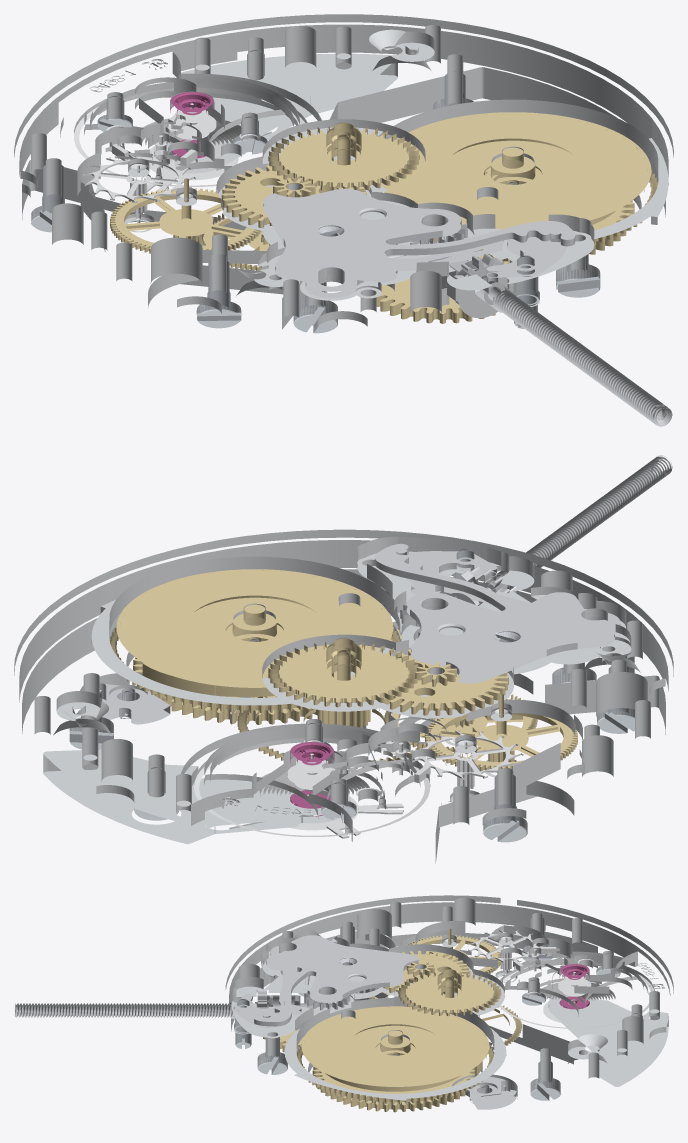
File: eta-6498-1.glb
3 renders of one model, top to bottom at view 1: azimuth 30°, elevation 25°; view 2: azimuth 150°, elevation 25°; view 3: azimuth 270°, elevation 25°, orthographic. The views are drawn at different scales.
Visible parts, largest first — view 1: 100 Main Plate, 180 Movement barrel complete, 445M Setting Lever Jumper, 121 Balancing bridge, 105M Barrel bridge, 250 Hour Wheel, 401 Winding stem, 220 Second wheel, 110 Train wheel bridge, 721 Balance, 125 Pallet bridge, 260 Minute wheel (+16 smaller); view 2: 100 Main Plate, 180 Movement barrel complete, 445M Setting Lever Jumper, 121 Balancing bridge, 250 Hour Wheel, 105M Barrel bridge, 721 Balance, 110 Train wheel bridge, 260 Minute wheel, 220 Second wheel, 401 Winding stem, 125 Pallet bridge (+13 smaller); view 3: 100 Main Plate, 180 Movement barrel complete, 445M Setting Lever Jumper, 121 Balancing bridge, 250 Hour Wheel, 401 Winding stem, 105M Barrel bridge, 721 Balance, 415 Ratchet wheel, 110 Train wheel bridge, 260 Minute wheel, 125 Pallet bridge (+12 smaller).
Boxes of the visible parts, x1,y1,x2,y2 form: 100 Main Plate: (14, 14, 673, 326); 180 Movement barrel complete: (380, 112, 657, 255); 445M Setting Lever Jumper: (263, 188, 575, 282); 121 Balancing bridge: (154, 53, 397, 173); 105M Barrel bridge: (282, 67, 665, 329); 250 Hour Wheel: (268, 126, 419, 190); 401 Winding stem: (429, 240, 672, 426); 220 Second wheel: (110, 178, 261, 253); 110 Train wheel bridge: (22, 160, 283, 320); 721 Balance: (74, 87, 307, 186); 125 Pallet bridge: (90, 78, 293, 170); 260 Minute wheel: (221, 165, 366, 227); 100 Main Plate: (14, 529, 673, 841); 180 Movement barrel complete: (109, 569, 399, 713); 445M Setting Lever Jumper: (374, 543, 614, 683); 121 Balancing bridge: (43, 749, 350, 844); 250 Hour Wheel: (268, 642, 417, 707); 105M Barrel bridge: (22, 569, 634, 752); 721 Balance: (194, 738, 430, 836); 110 Train wheel bridge: (421, 675, 665, 863); 260 Minute wheel: (382, 649, 508, 715); 220 Second wheel: (425, 694, 577, 772); 401 Winding stem: (479, 455, 672, 592); 125 Pallet bridge: (210, 728, 422, 815); 100 Main Plate: (225, 895, 673, 1105); 180 Movement barrel complete: (297, 1006, 493, 1104); 445M Setting Lever Jumper: (254, 935, 419, 1026); 121 Balancing bridge: (548, 996, 668, 1086); 250 Hour Wheel: (398, 971, 501, 1016); 401 Winding stem: (14, 1002, 312, 1017); 105M Barrel bridge: (231, 967, 573, 1098); 721 Balance: (499, 958, 654, 1028); 415 Ratchet wheel: (312, 1044, 474, 1112); 110 Train wheel bridge: (326, 925, 597, 982); 260 Minute wheel: (383, 950, 470, 994); 125 Pallet bridge: (505, 955, 643, 997).
Size of the model in its own units: 1.36 by 0.2179 by 2.
1 material, 1 textured.
